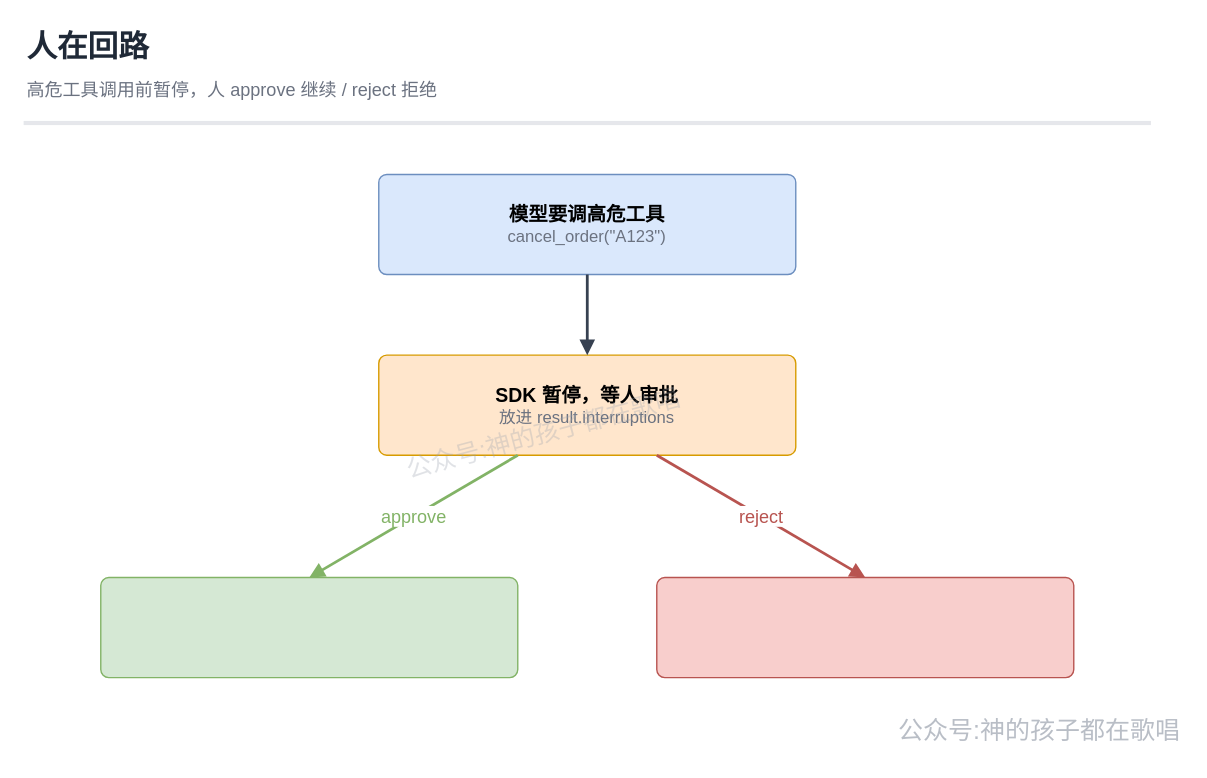
The diagram is 1207 pixels wide and 778 high, and some of its shapes have lost their labels. Each missing label, with the centre of its shape:
approve → 执行工具 取消订单，继续回答: the point at 308,627
reject → 拒绝 告诉模型"被拒了": the point at 864,627
